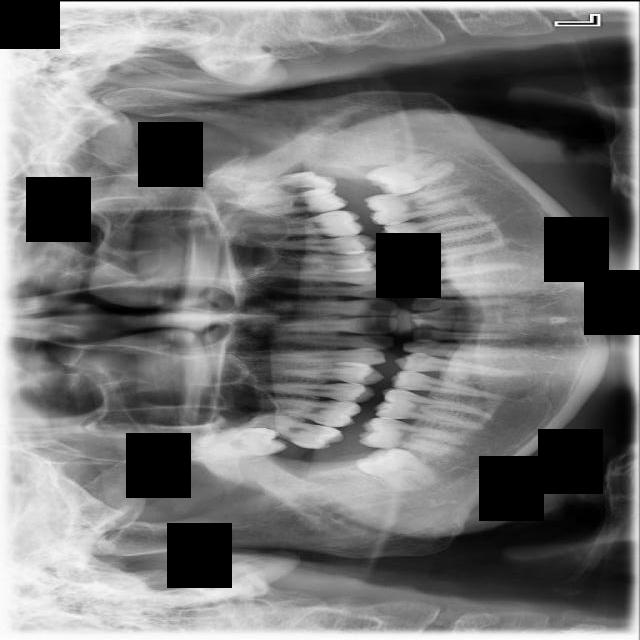3M ESPE Implant: (191, 424, 286, 460)
73: (539, 25, 559, 40)
BioHorizons Implant: (247, 185, 350, 218)
BioLife Implant: (246, 168, 337, 201)
Biomet 3i Implant: (363, 138, 460, 207)
Blue Sky Bio Implant: (363, 180, 476, 227)
Caries: (249, 408, 346, 456)
Implant: (358, 414, 470, 457)
Keystone Dental Implant: (354, 431, 440, 504)
